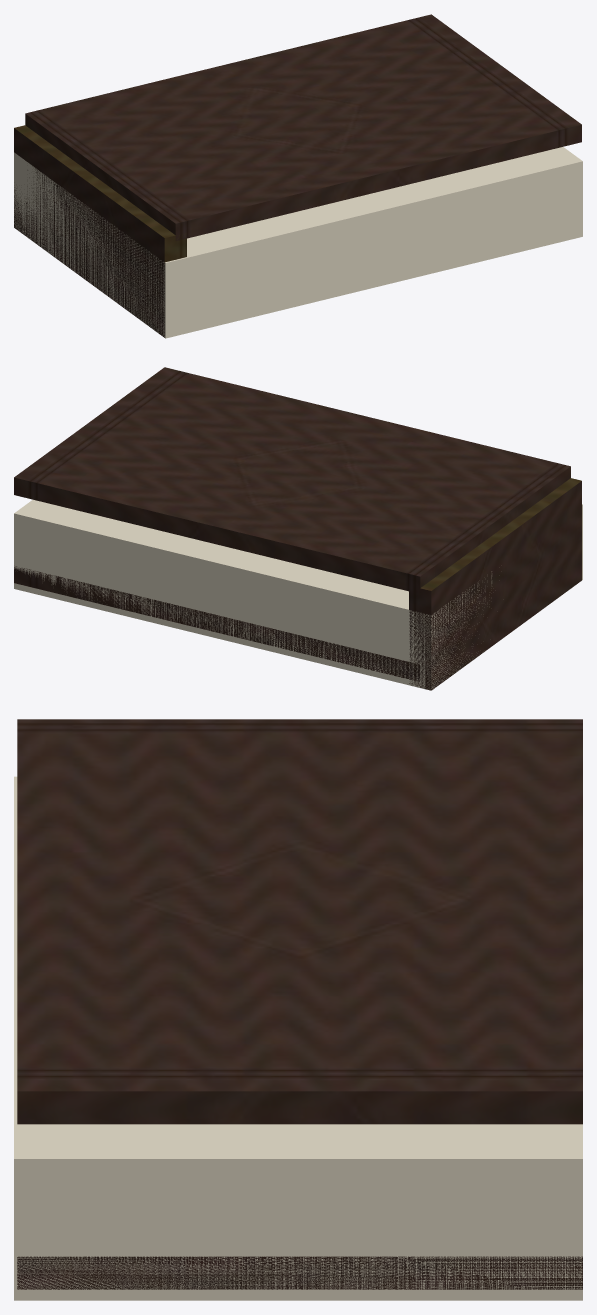
The model's file is laid.glb.
The picture shows the model from 3 angles, top to bottom: view 1: azimuth 30°, elevation 25°; view 2: azimuth 150°, elevation 25°; view 3: azimuth 270°, elevation 25°; orthographic projection. The views are drawn at different scales.
Parts seen in each view (by area): view 1: laid; view 2: laid; view 3: laid.
Boxes of the visible parts, bbox=[...] form: laid: bbox=[14, 14, 582, 338]; laid: bbox=[14, 367, 582, 690]; laid: bbox=[14, 719, 582, 1300].
Size of the model in its own units: 0.2791 by 0.0712 by 0.1755.
2 materials, 1 textured.
